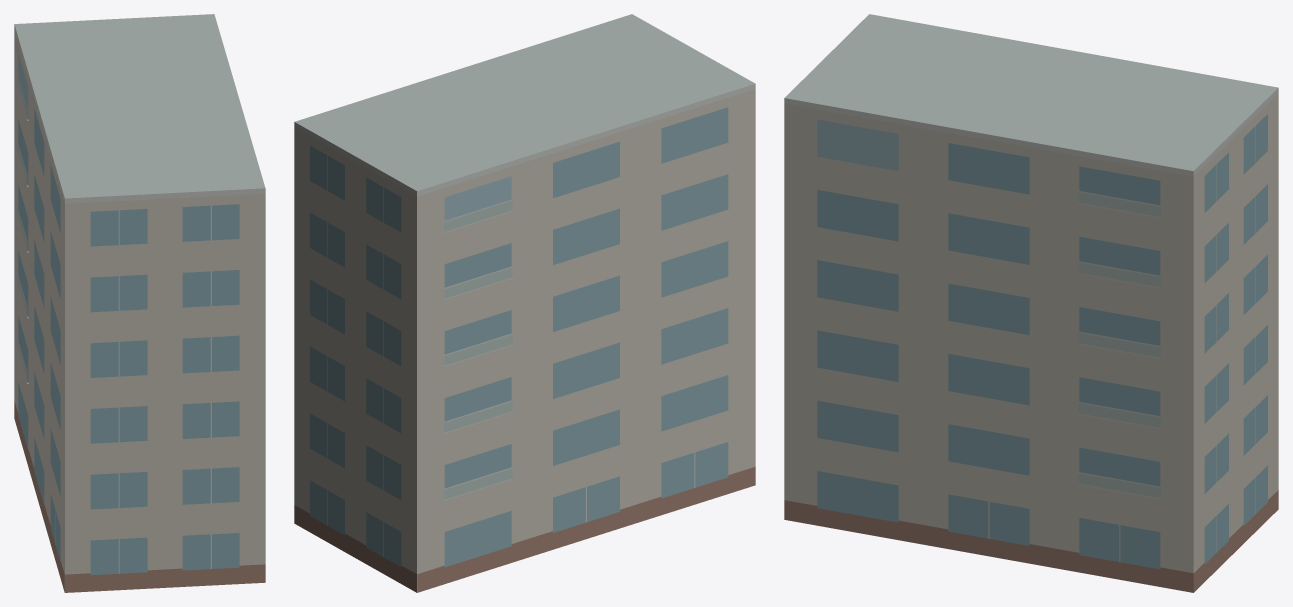
File: survey-upis-32527624.glb
3 renders of one model, left to right at view 1: azimuth 30°, elevation 25°; view 2: azimuth 150°, elevation 25°; view 3: azimuth 270°, elevation 25°, orthographic. The views are drawn at different scales.
Visible parts, largest first — view 1: survey-upis-32527624.tmp; view 2: survey-upis-32527624.tmp; view 3: survey-upis-32527624.tmp.
Part boxes in pixels (box(x1,y1,x2,y2)): survey-upis-32527624.tmp: box(14, 14, 265, 592); survey-upis-32527624.tmp: box(294, 14, 755, 592); survey-upis-32527624.tmp: box(784, 14, 1278, 592).
Bounding box in the file's own units: 14.64 × 18.3 × 19.45.
